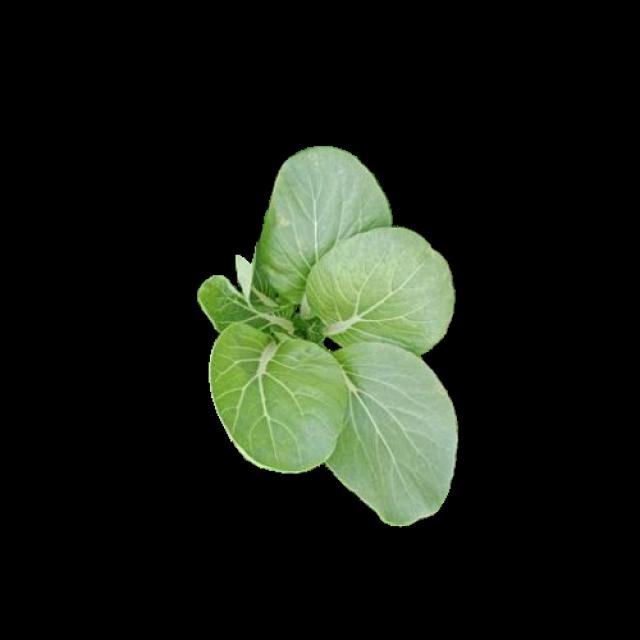not-mature: (200, 148, 456, 521)
unhealthy: (247, 150, 393, 328), (198, 257, 287, 337)
